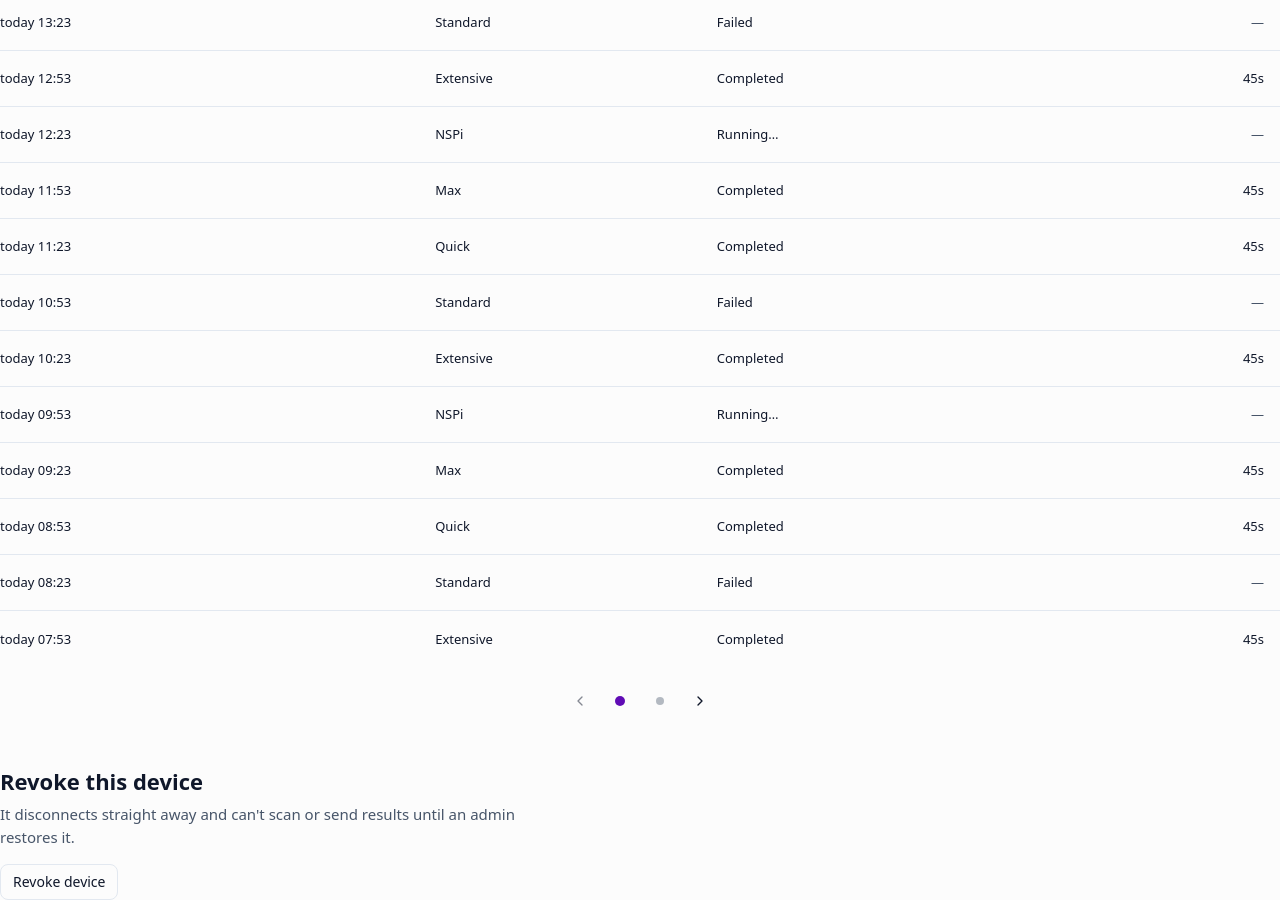
Scenario: DeviceDetail revocation › uses disabled progress states
(page scrolled)
Click the button with test id "device-revoke-trigger": (59, 882) [0, 864, 118, 899]
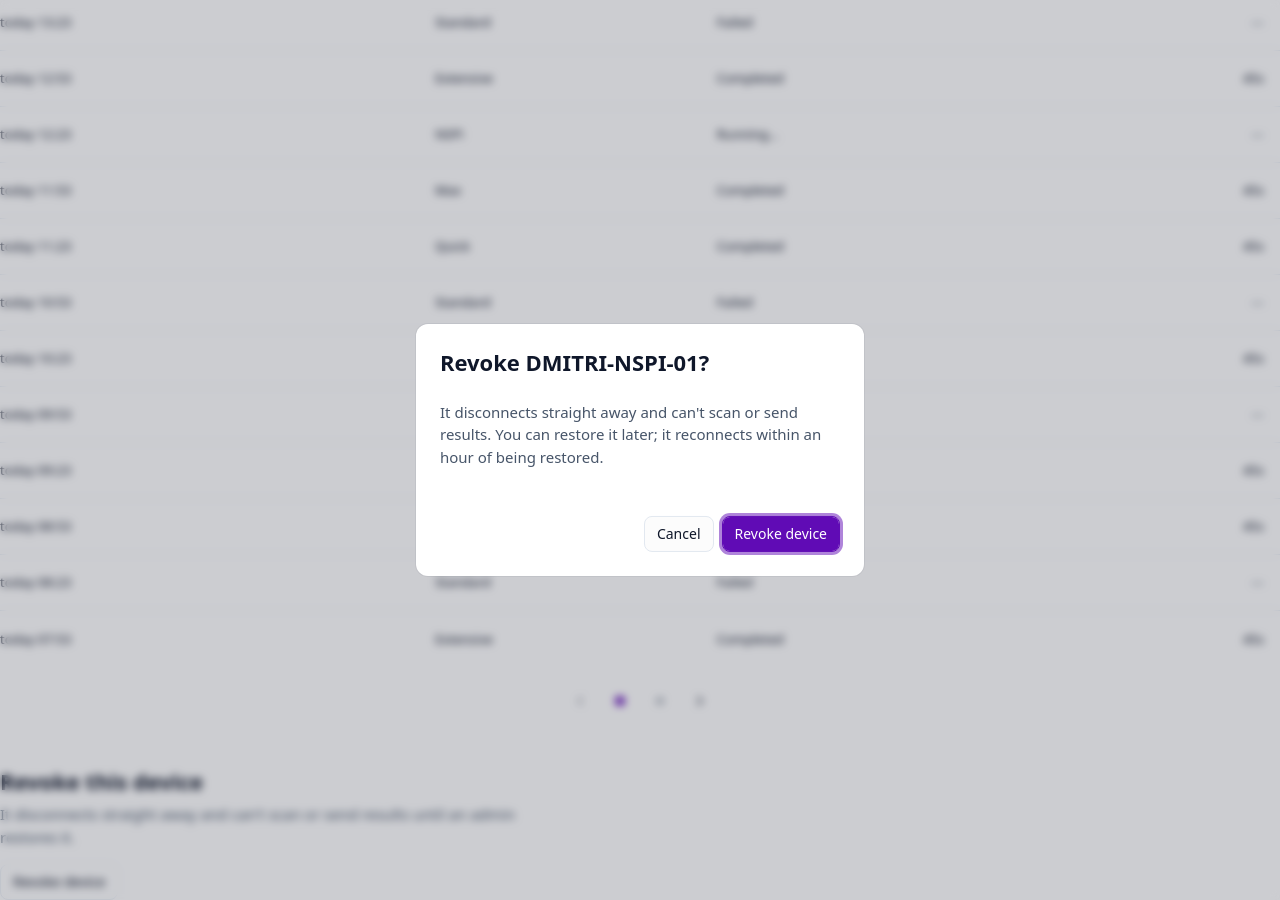
Click the button with test id "device-revoke-confirm": (781, 534) [722, 516, 840, 552]
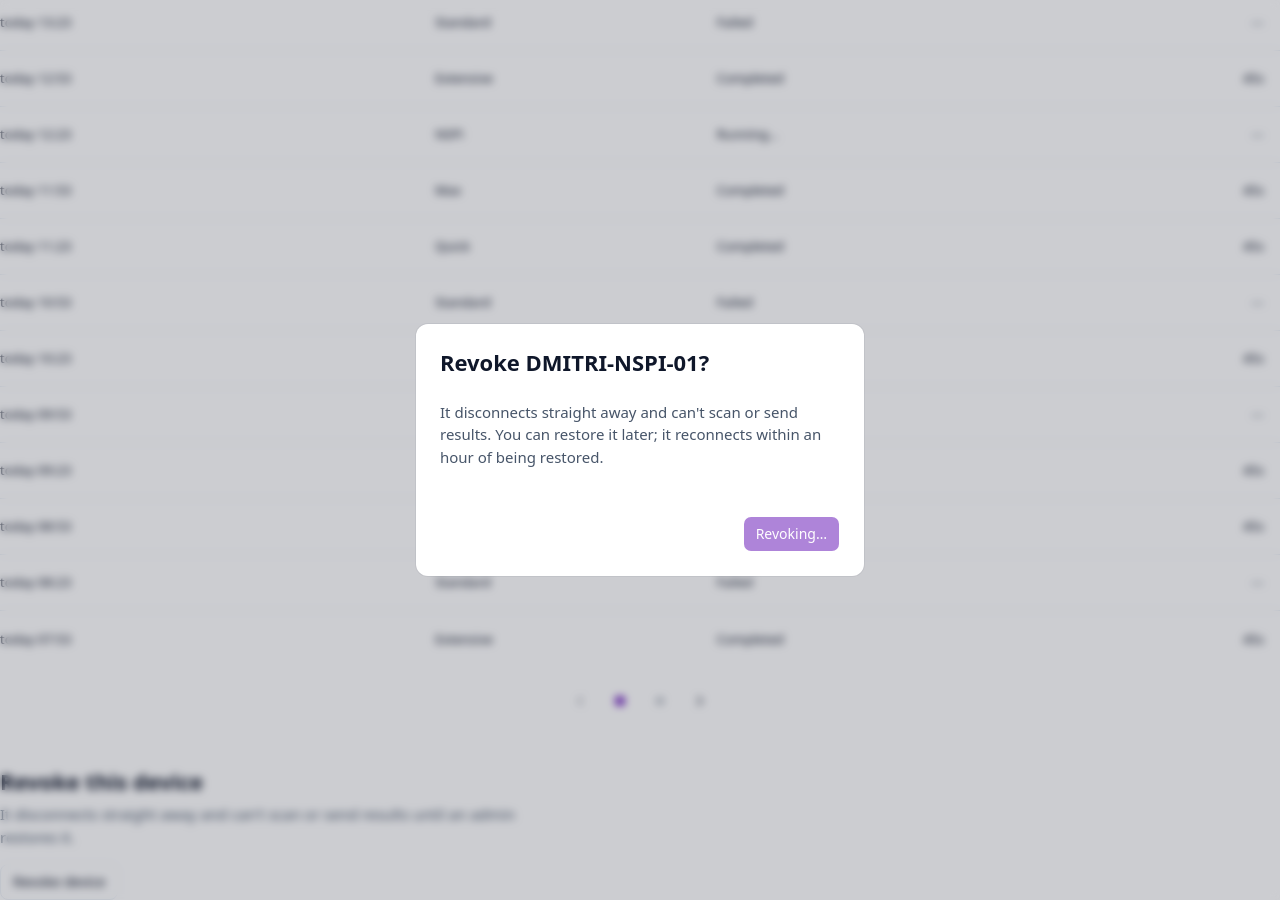
Now the button with test id "device-revoke-confirm" is disabled, box [743, 516, 840, 552]
Now the button with test id "device-revoke-confirm" reads "Revoking…", box [743, 516, 840, 552]
Now the button with test id "device-revoke-cancel" is gone
